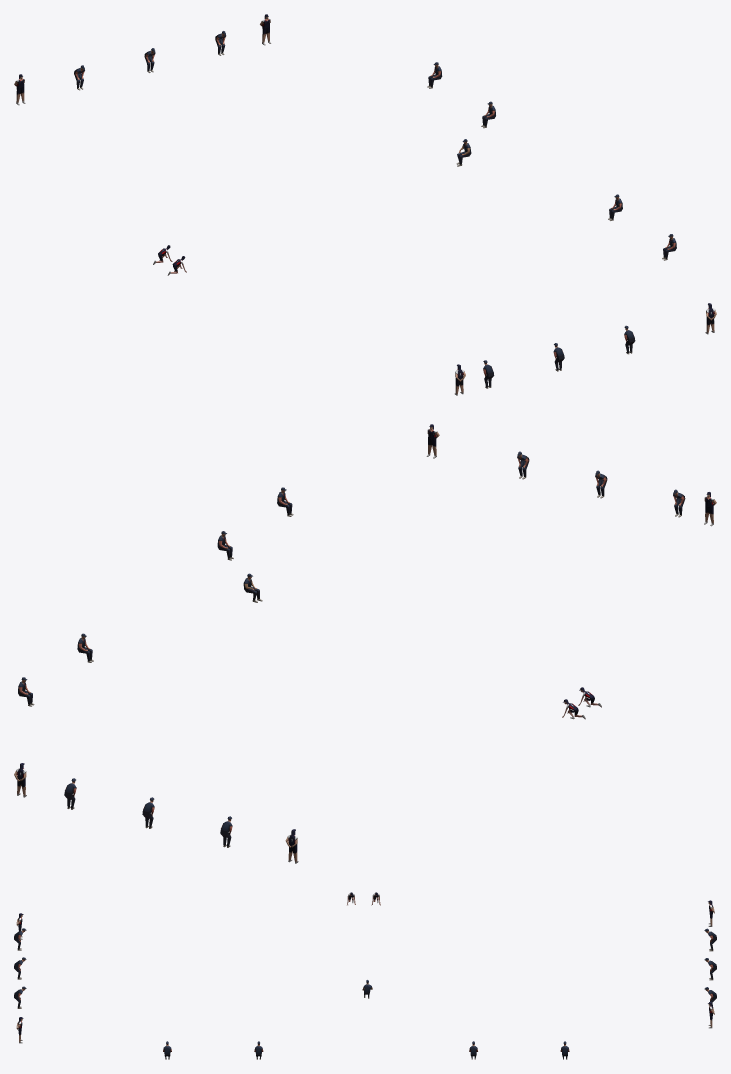
File: court_4_2.obj
3 views of the same model, one above another, from view 1: azimuth 30°, elevation 25°; view 2: azimuth 150°, elevation 25°; view 3: azimuth 270°, elevation 25° (orthographic). The views are drawn at different scales.
Bounding box in the file's own units: 23.29 × 3 × 41.85.
Materials: 4 (4 with a texture image).
